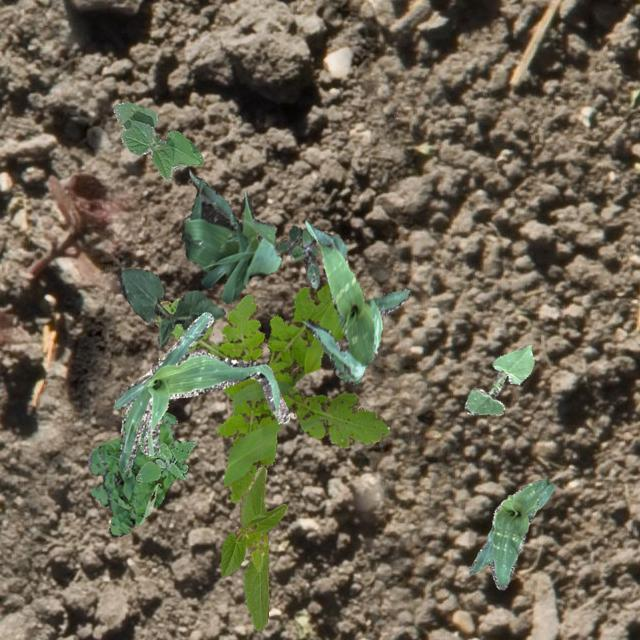crop: (112, 310, 288, 472), (301, 220, 408, 384), (180, 170, 280, 302), (468, 478, 552, 588), (116, 268, 225, 348), (112, 100, 202, 180), (236, 464, 268, 630), (464, 344, 534, 414), (220, 502, 286, 576)
weed: (154, 282, 388, 502), (86, 410, 188, 536), (134, 436, 196, 482), (276, 225, 318, 288)
